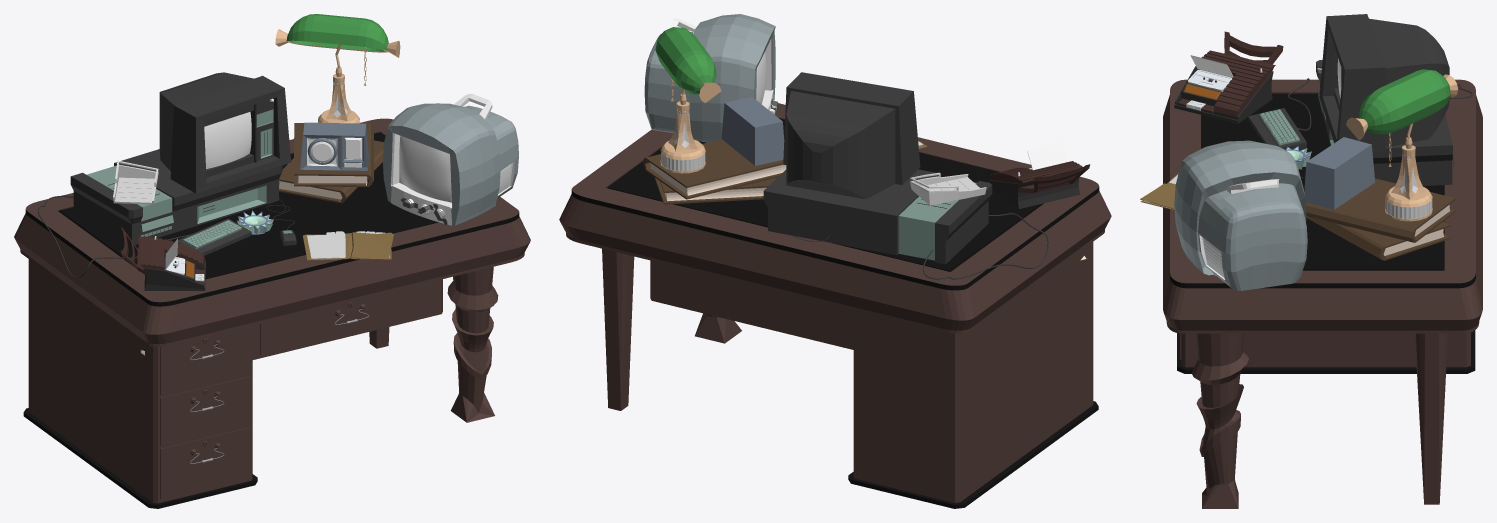
File: escena exportar1.fbx
3 renders of one model, left to right at view 1: azimuth 30°, elevation 25°; view 2: azimuth 150°, elevation 25°; view 3: azimuth 270°, elevation 25°, orthographic. The views are drawn at different scales.
Parts seen in each view (by area): view 1: mesa, tele, monitor, gabinete, cajon, pila de libros, luz lampara, telefono, vidrio tele, reloj, vidrio compu, archivero (+5 smaller); view 2: mesa, monitor, gabinete, tele, pila de libros, reloj, telefono, luz lampara, lampara, archivero, vidrio telefono; view 3: mesa, tele, monitor, pila de libros, telefono, luz lampara, reloj, gabinete, lampara, teclado, cassette, carpeta (+1 smaller).
Boxes of the visible parts, x1,y1,x2,y2 form: mesa: (14,118,530,508); tele: (383,94,518,225); monitor: (159,72,291,193); gabinete: (70,149,282,245); cajon: (160,326,250,395); pila de libros: (279,122,383,203); luz lampara: (275,14,400,57); telefono: (121,227,205,290); vidrio tele: (399,136,451,202); reloj: (300,122,368,170); vidrio compu: (204,112,251,168); archivero: (113,160,158,204); mesa: (559,103,1111,508); monitor: (783,72,920,199); gabinete: (763,169,992,264); tele: (644,14,776,142); pila de libros: (642,139,786,204); reloj: (721,97,784,165); telefono: (987,161,1090,208); luz lampara: (655,27,721,102); lampara: (660,89,705,173); archivero: (910,172,986,205); vidrio telefono: (1027,142,1067,170); mesa: (1163,79,1482,508); tele: (1174,140,1307,290); monitor: (1319,14,1449,151); pila de libros: (1305,178,1455,260); telefono: (1174,31,1283,123); luz lampara: (1346,69,1457,140); reloj: (1304,137,1375,209); gabinete: (1316,60,1452,185); lampara: (1385,123,1432,221); teclado: (1248,108,1306,150); cassette: (1188,70,1231,91); carpeta: (1140,183,1175,209).
Bounding box in the file's own units: 15556 × 12893 × 10207.
